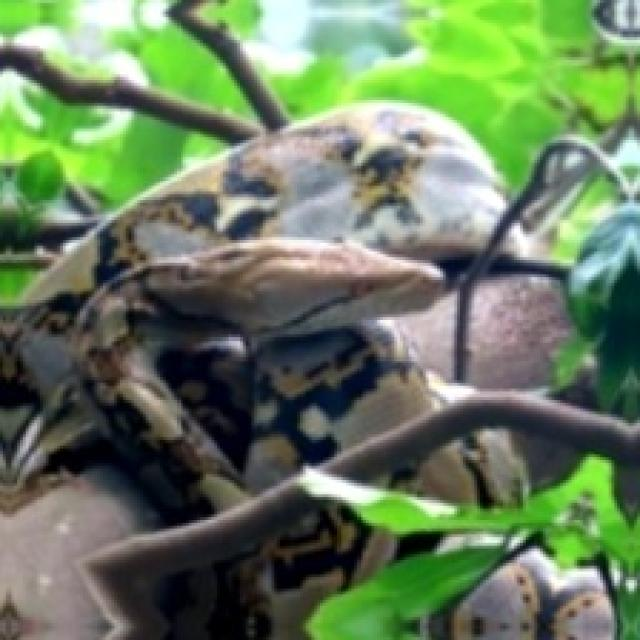reticulated python: (0, 102, 506, 524), (141, 504, 398, 640), (381, 430, 574, 506), (449, 550, 611, 640), (470, 275, 570, 389)
